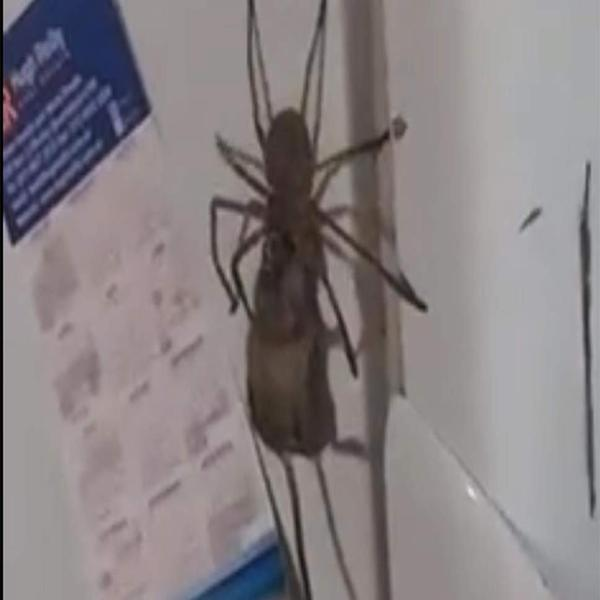Huntsman Spider: (199, 3, 428, 370)
